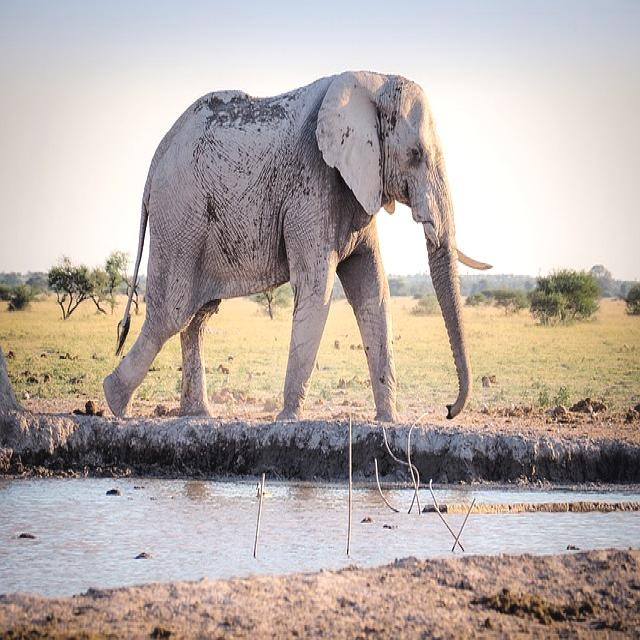FIL: (102, 59, 477, 423)
